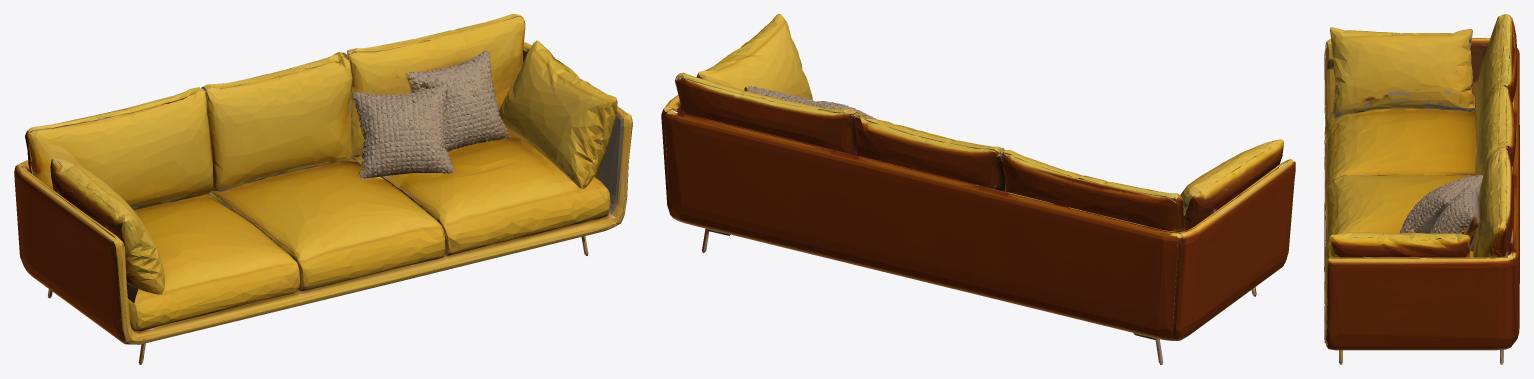
Rendered from edited_mesh.glb.
3 renders of one model, left to right at view 1: azimuth 30°, elevation 25°; view 2: azimuth 150°, elevation 25°; view 3: azimuth 270°, elevation 25°, orthographic. The views are drawn at different scales.
Visible parts, largest first — view 1: solid_001_wire; view 2: solid_001_wire; view 3: solid_001_wire.
Boxes of the visible parts, x1=… form: solid_001_wire: x1=14, y1=14, x2=632, y2=364; solid_001_wire: x1=661, y1=14, x2=1295, y2=364; solid_001_wire: x1=1324, y1=14, x2=1519, y2=364.
Bounding box in the file's own units: 2 × 0.6387 × 0.7369.
Materials: 1 (1 with a texture image).
